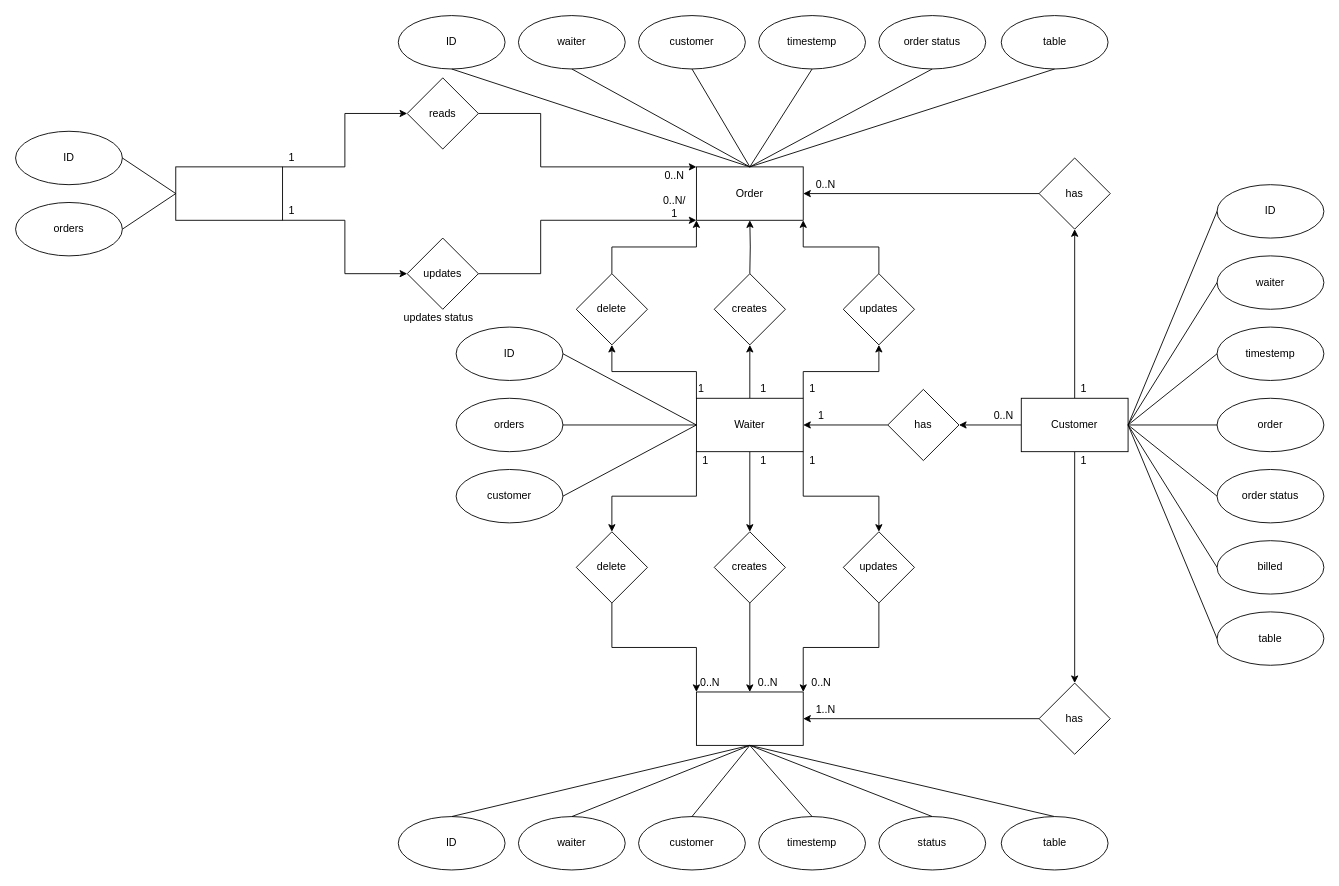
This 1339x886 diagram has some shape labels left out. The shapes that lost their labels are listed below. From the top down, each one's centre as x and y in pixels, then its label:
point (229, 193): Chef
point (749, 718): Reservation
